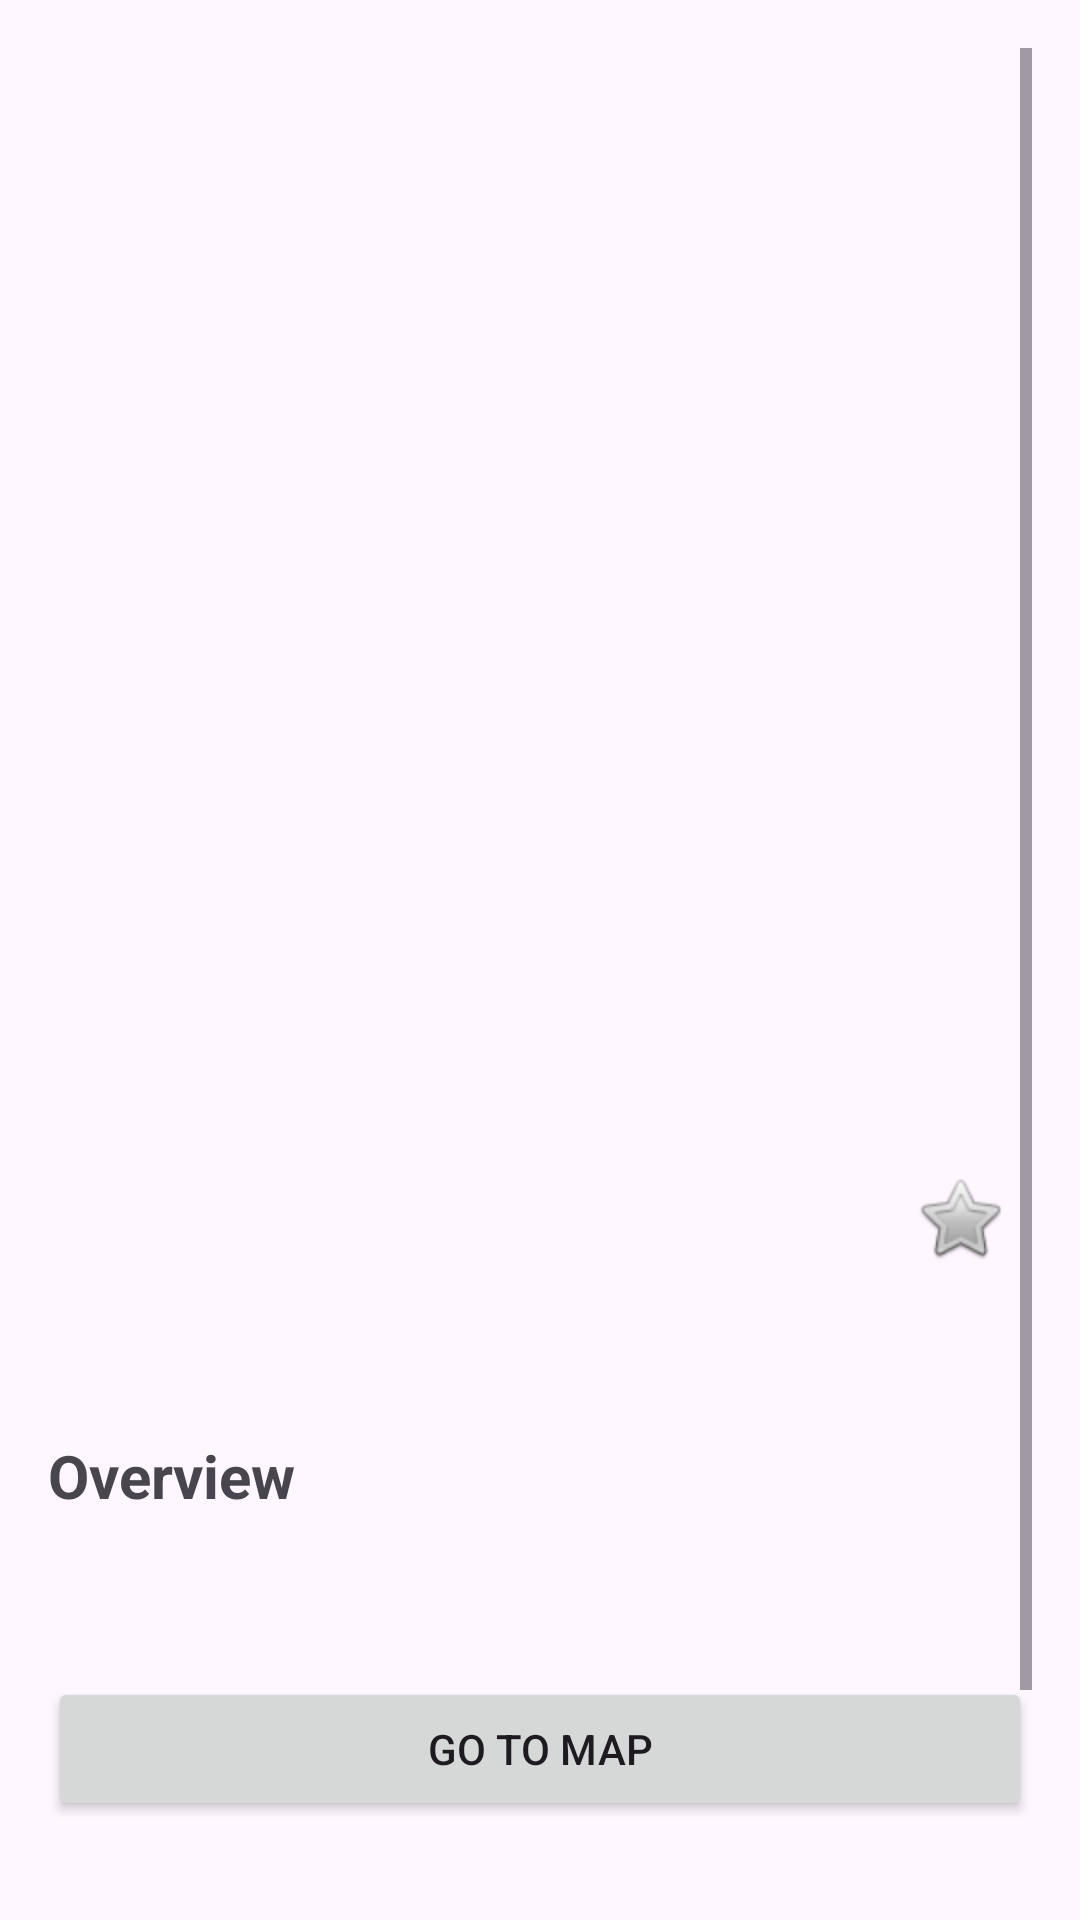

Where icons sit on this 1080 × 1920 app screen, as (x1, y1, x2, y2):
Ajouter aux favoris: (921, 1180, 1001, 1258)
